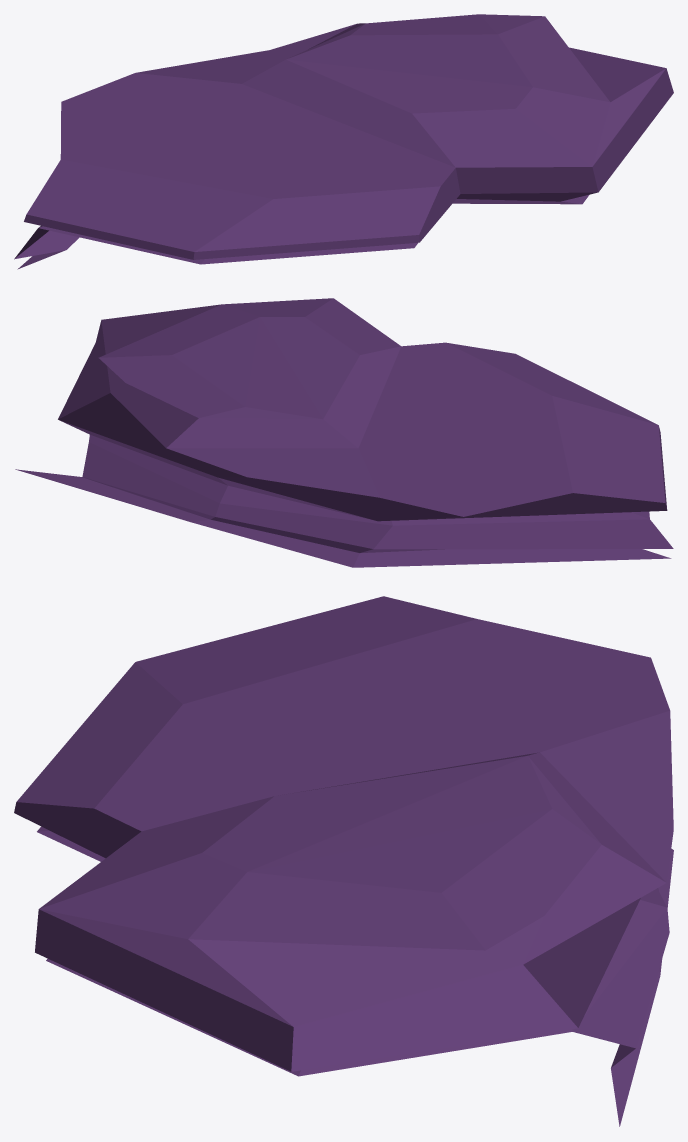
The model's file is Rock_14.fbx.
The picture shows the model from 3 angles, top to bottom: view 1: azimuth 30°, elevation 25°; view 2: azimuth 150°, elevation 25°; view 3: azimuth 270°, elevation 25°; orthographic projection. The views are drawn at different scales.
Visible parts, largest first — view 1: rock_model.025; view 2: rock_model.025; view 3: rock_model.025.
Boxes of the visible parts, <box> form: rock_model.025: <box>14,14,673,269</box>; rock_model.025: <box>15,298,673,567</box>; rock_model.025: <box>14,596,673,1126</box>.
Bounding box in the file's own units: 450 × 69.21 × 266.
